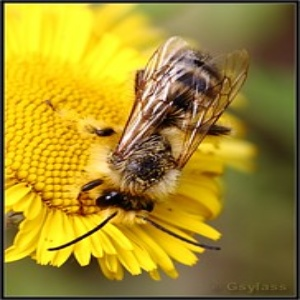bee: (92, 34, 255, 254)
